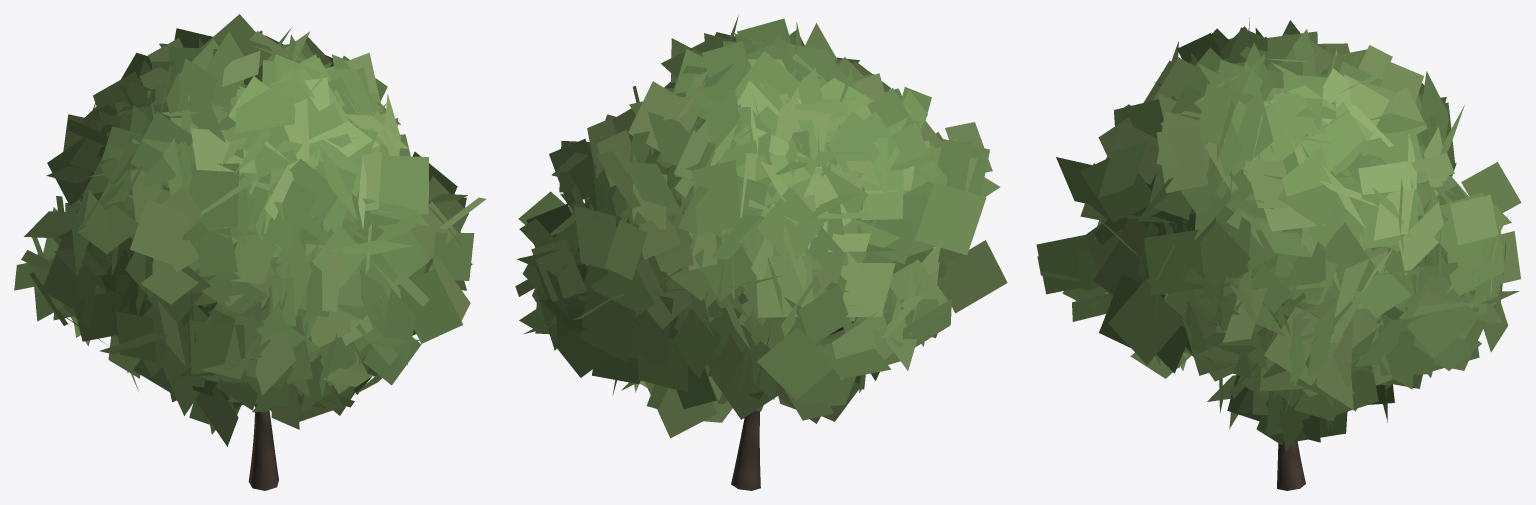
The model's file is linden_0.glb.
3 renders of one model, left to right at view 1: azimuth 30°, elevation 25°; view 2: azimuth 150°, elevation 25°; view 3: azimuth 270°, elevation 25°, orthographic.
Visible parts, largest first — view 1: linden_0; view 2: linden_0; view 3: linden_0.
Part boxes in pixels (bbox=[...]): linden_0: bbox=[14, 14, 486, 490]; linden_0: bbox=[515, 15, 1007, 490]; linden_0: bbox=[1036, 17, 1521, 490].
Bounding box in the file's own units: 1 × 1 × 0.9871.
